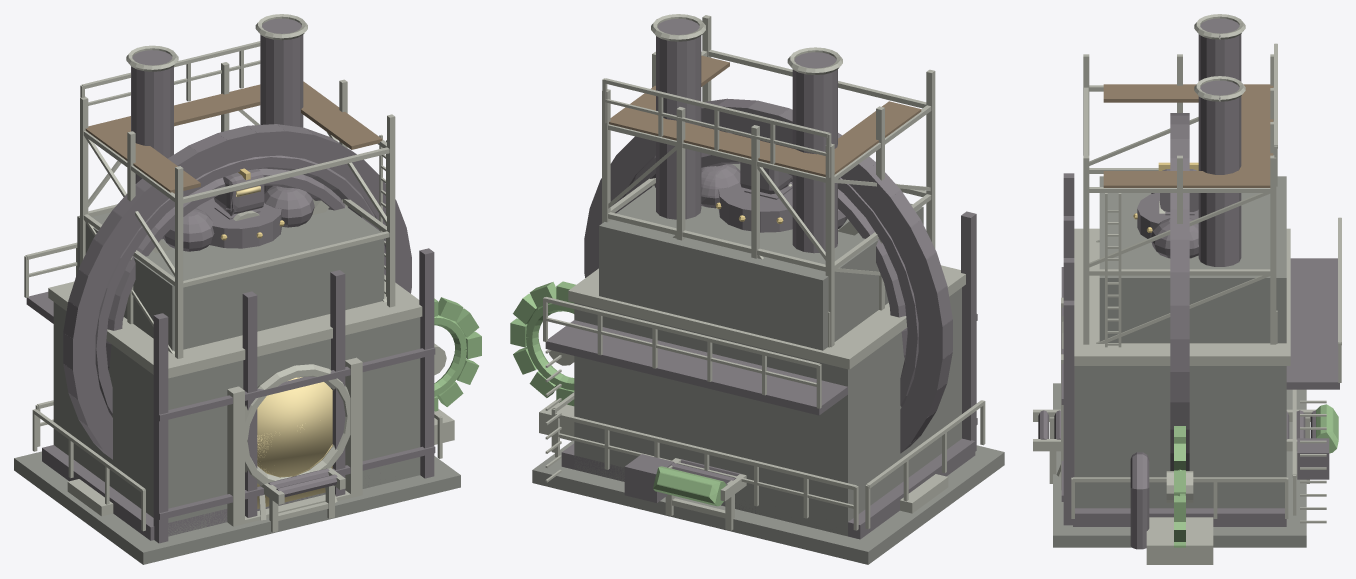
File: InfernalF22Kit.fbx
3 renders of one model, left to right at view 1: azimuth 30°, elevation 25°; view 2: azimuth 150°, elevation 25°; view 3: azimuth 270°, elevation 25°, orthographic. The views are drawn at different scales.
Visible parts, largest first — view 1: FurnaceBox__STONE, WallGear__METAL, FurnaceBox__METAL, FurnaceBox__TRIM, AssemblyScaffold__TRIM, QuenchTank__STONE, AssemblyScaffold__WOOD, FurnaceBox__GLOW, ConstructShell__METAL, WallGear__ACCENT, QuenchTank__METAL, QuenchTank__TRIM (+3 smaller); view 2: FurnaceBox__STONE, FurnaceBox__METAL, WallGear__METAL, AssemblyScaffold__TRIM, FurnaceBox__TRIM, QuenchTank__STONE, AssemblyScaffold__WOOD, QuenchTank__TRIM, ConstructShell__METAL, WallGear__ACCENT, QuenchTank__METAL, ConveyorRollers__METAL (+3 smaller); view 3: FurnaceBox__STONE, FurnaceBox__METAL, FurnaceBox__TRIM, AssemblyScaffold__TRIM, AssemblyScaffold__WOOD, WallGear__METAL, QuenchTank__STONE, QuenchTank__METAL, WallGear__TRIM, ConstructShell__METAL, ConveyorRollers__METAL, QuenchTank__TRIM (+3 smaller).
Part boxes in pixels (bbox=[...]): FurnaceBox__STONE: bbox=[53, 206, 420, 535]; WallGear__METAL: bbox=[63, 124, 411, 459]; FurnaceBox__METAL: bbox=[26, 18, 435, 543]; FurnaceBox__TRIM: bbox=[24, 14, 422, 526]; AssemblyScaffold__TRIM: bbox=[80, 41, 395, 358]; QuenchTank__STONE: bbox=[14, 451, 460, 564]; AssemblyScaffold__WOOD: bbox=[85, 81, 382, 193]; FurnaceBox__GLOW: bbox=[257, 377, 332, 508]; ConstructShell__METAL: bbox=[163, 169, 314, 251]; WallGear__ACCENT: bbox=[434, 297, 481, 411]; QuenchTank__METAL: bbox=[42, 445, 380, 540]; QuenchTank__TRIM: bbox=[32, 400, 442, 531]; FurnaceBox__STONE: bbox=[574, 163, 961, 536]; FurnaceBox__METAL: bbox=[545, 18, 977, 451]; WallGear__METAL: bbox=[584, 98, 952, 453]; AssemblyScaffold__TRIM: bbox=[602, 15, 935, 347]; FurnaceBox__TRIM: bbox=[543, 14, 965, 482]; QuenchTank__STONE: bbox=[532, 440, 1004, 564]; AssemblyScaffold__WOOD: bbox=[609, 55, 921, 176]; QuenchTank__TRIM: bbox=[551, 392, 985, 530]; ConstructShell__METAL: bbox=[701, 162, 847, 232]; WallGear__ACCENT: bbox=[510, 281, 575, 406]; QuenchTank__METAL: bbox=[561, 438, 975, 539]; ConveyorRollers__METAL: bbox=[624, 454, 741, 502]; FurnaceBox__STONE: bbox=[1074, 176, 1286, 508]; FurnaceBox__METAL: bbox=[1061, 18, 1339, 525]; FurnaceBox__TRIM: bbox=[1061, 14, 1341, 523]; AssemblyScaffold__TRIM: bbox=[1083, 43, 1277, 347]; AssemblyScaffold__WOOD: bbox=[1103, 84, 1273, 187]; WallGear__METAL: bbox=[1170, 113, 1189, 470]; QuenchTank__STONE: bbox=[1053, 383, 1306, 547]; QuenchTank__METAL: bbox=[1073, 452, 1286, 549]; WallGear__TRIM: bbox=[1146, 471, 1213, 564]; ConstructShell__METAL: bbox=[1137, 169, 1198, 258]; ConveyorRollers__METAL: bbox=[1038, 410, 1329, 479]; QuenchTank__TRIM: bbox=[1056, 389, 1296, 518].
Bounding box in the file's own units: 34.9 × 35.14 × 23.14.
